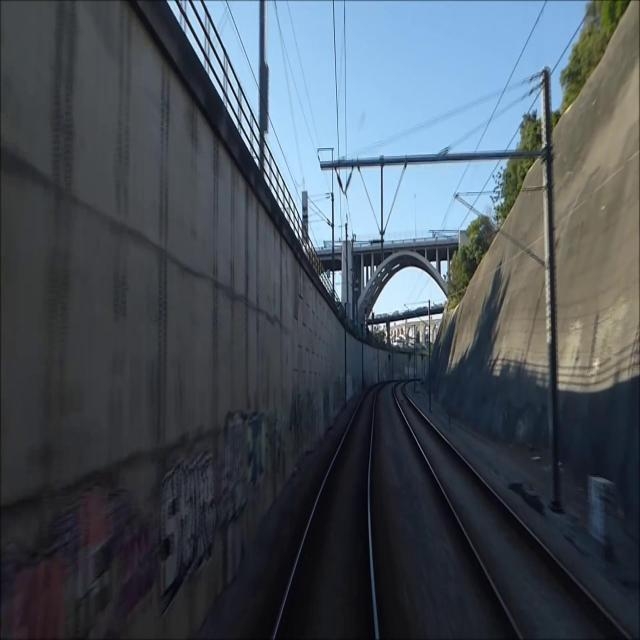rail-track: (395, 385, 623, 639), (278, 391, 374, 639)
